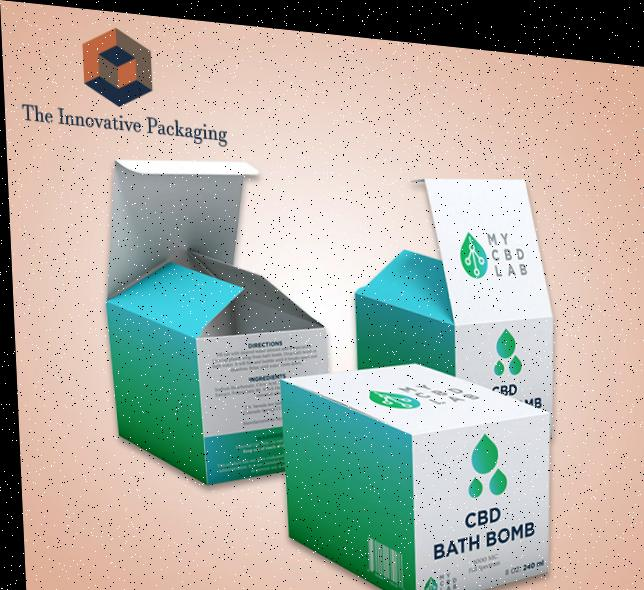cube: (273, 346, 555, 590)
